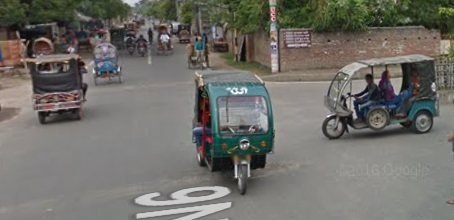bike: (138, 41, 147, 58), (127, 41, 135, 57)
easybike: (192, 70, 277, 195), (321, 54, 442, 140), (31, 54, 87, 124), (111, 24, 127, 46)
rickshaw: (91, 43, 124, 86), (157, 32, 174, 57), (30, 37, 54, 54)
van: (186, 55, 210, 69)
